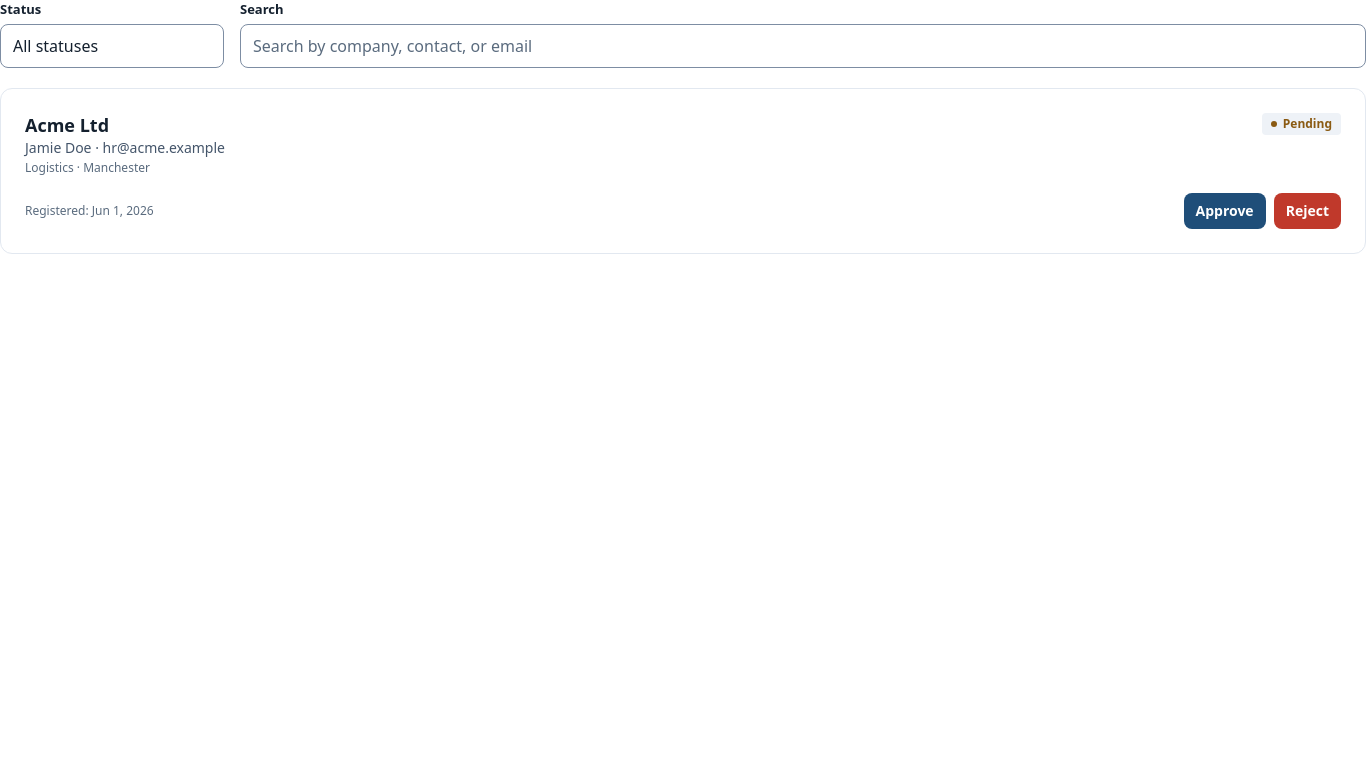
Test: EmployerApprovalQueue › rejects via the dialog, sending the reason, and shows feedback
The width and height of the screenshot is (1366, 768).
Click the button "Reject".
click(1307, 211)  # box [1274,193,1341,229]
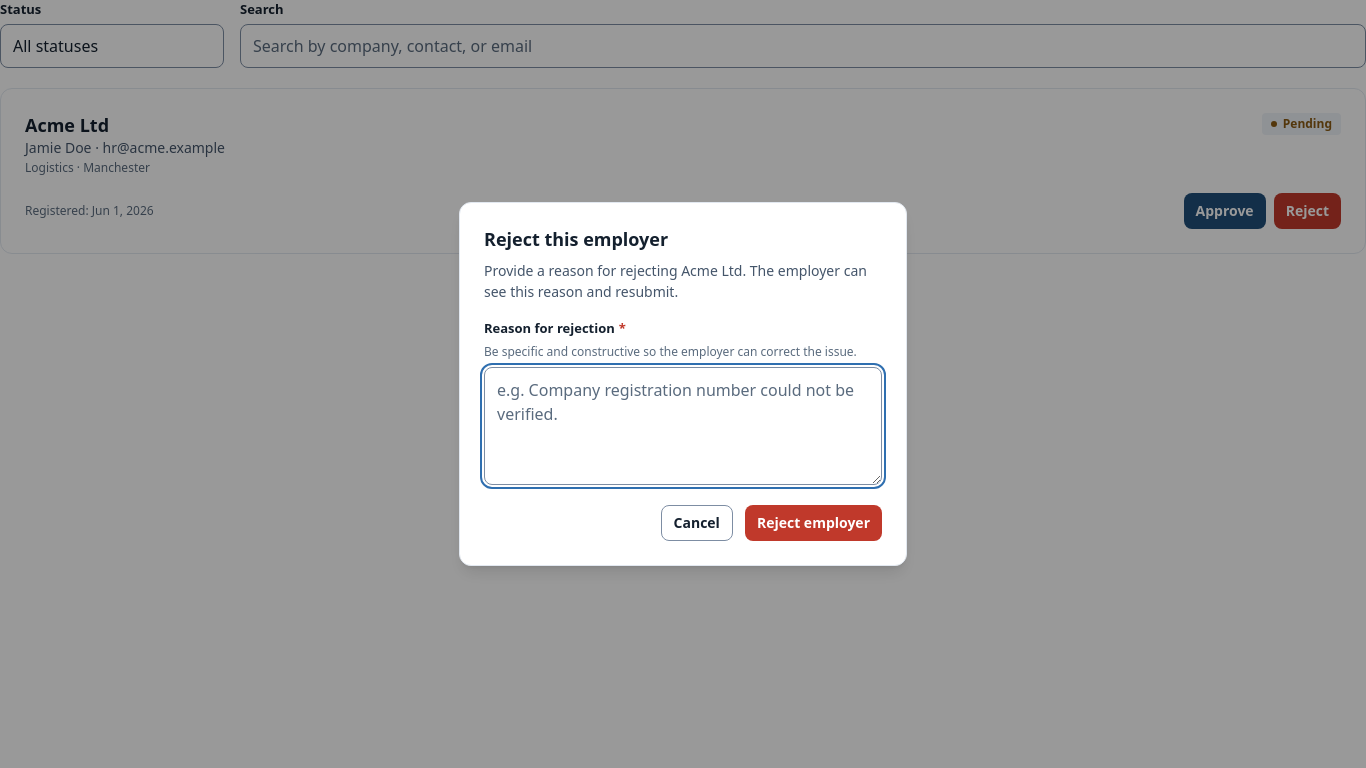
Expected: the dialog is shown, [459,202,907,566]
Type "Cannot verify registration" into the text box labelled "Reason for rejection*".
click(683, 426); type("Cannot verify registration")  # box [484,367,882,485]
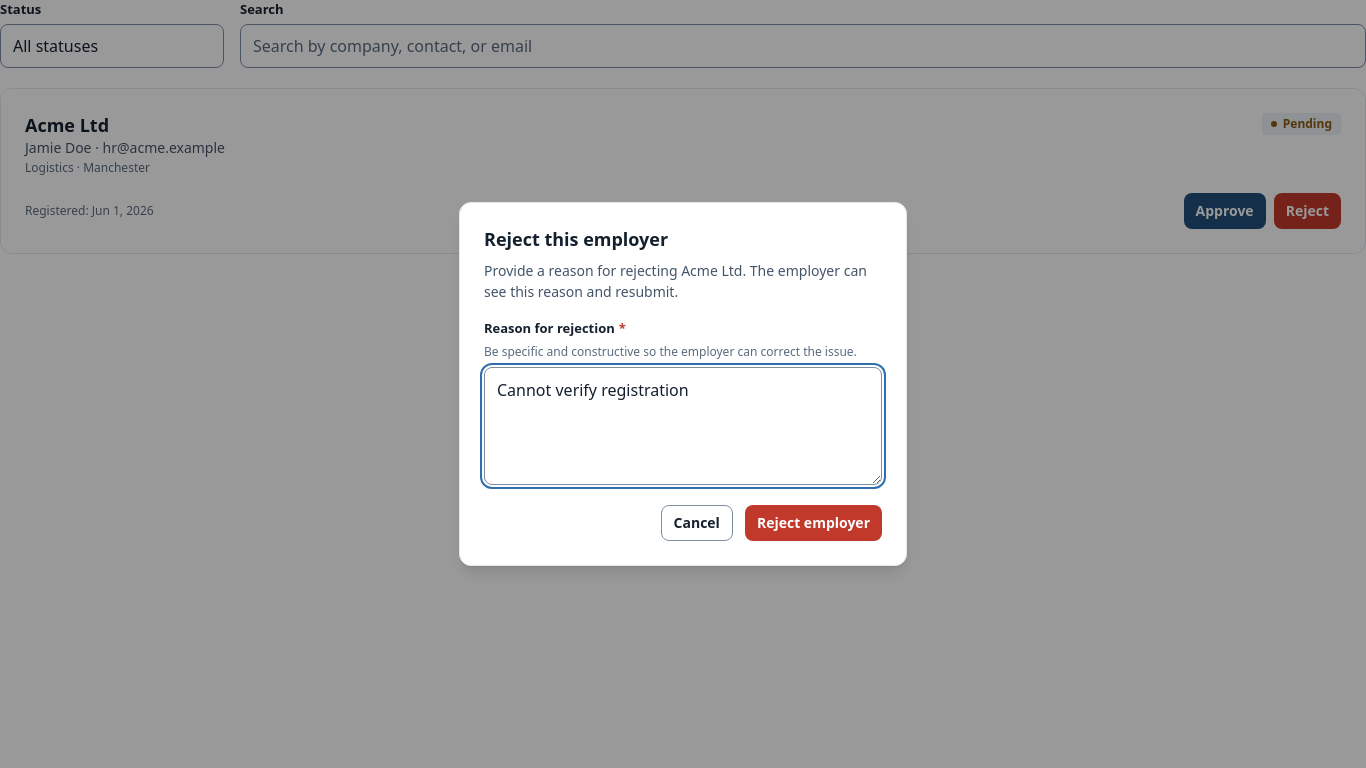
Click the button "Reject employer".
click(813, 523)  # box [745,505,882,541]
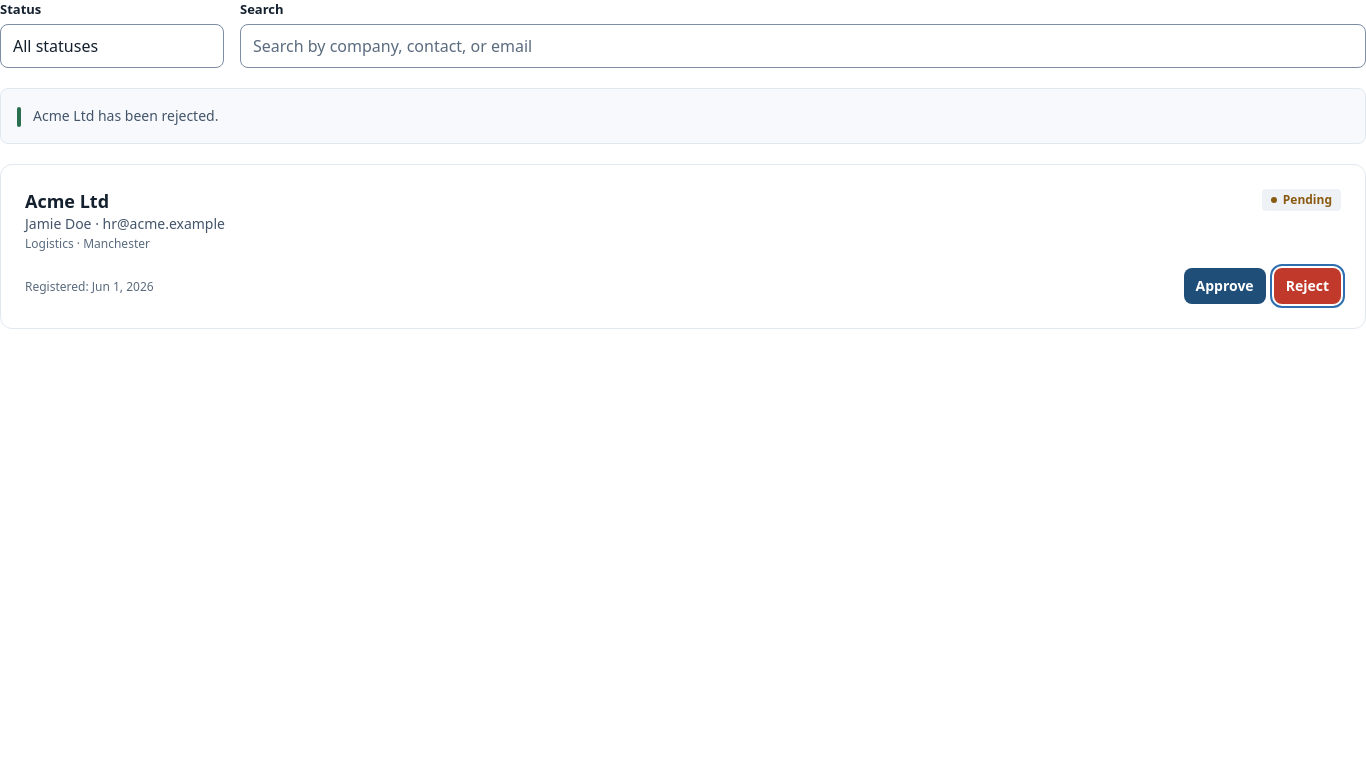
Expected: the text "Acme Ltd has been rejected." is shown, [33,106,218,125]
